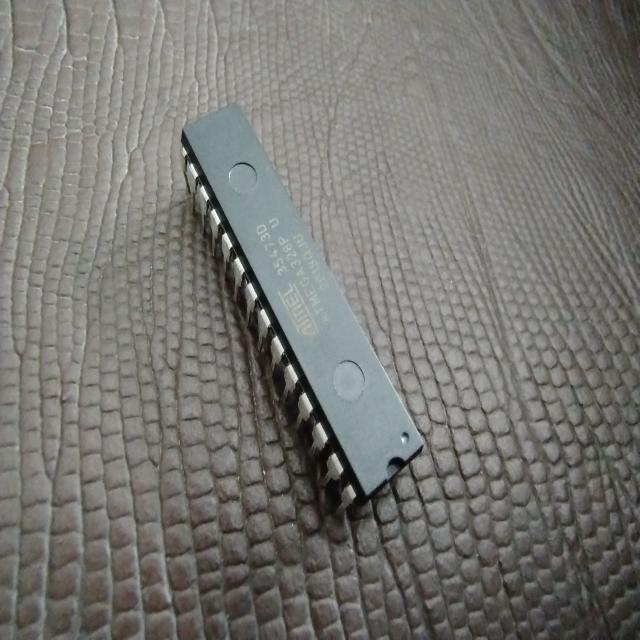atmega: (178, 100, 426, 514)
